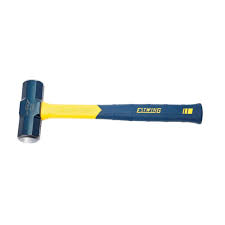hammer: (17, 78, 203, 144)
